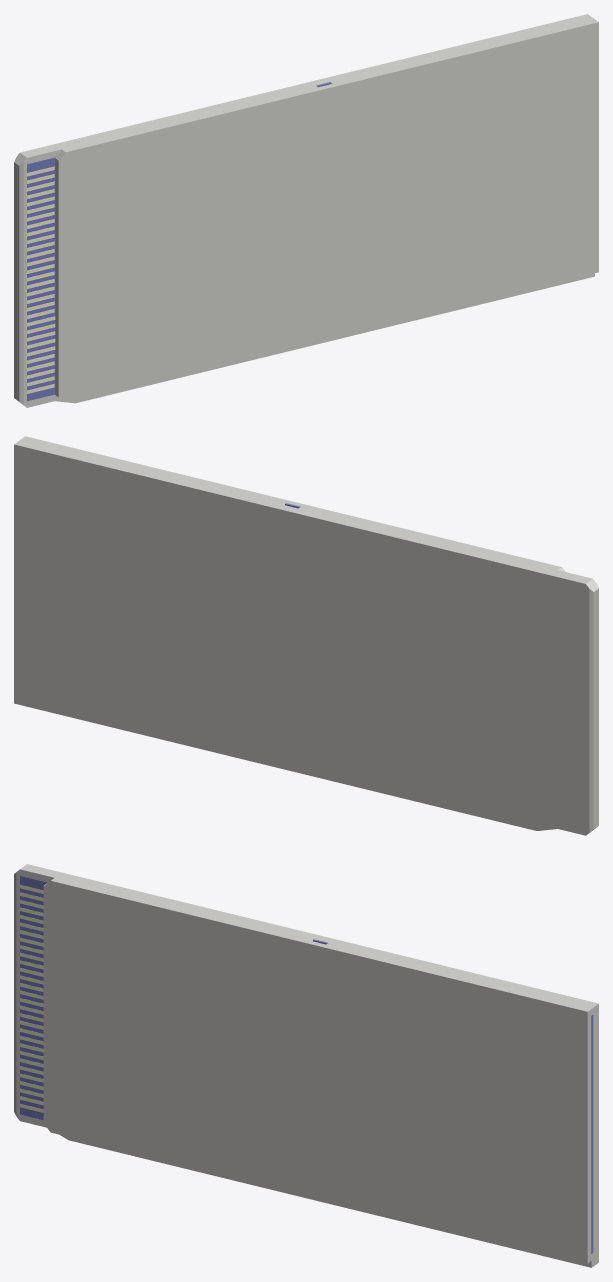
Rendered from Cartridge Base.gltf.
The picture shows the model from 3 angles, top to bottom: view 1: azimuth 30°, elevation 25°; view 2: azimuth 150°, elevation 25°; view 3: azimuth 330°, elevation 25°; orthographic projection.
Visible parts, largest first — view 1: Cartridge Top (×2), Cartridge Base (×8), Sensor For Microfluidic; view 2: Cartridge Base (×4); view 3: Cartridge Top (×2), Cartridge Base (×8), Sensor For Microfluidic.
Boxes of the visible parts, <box> form: Cartridge Top (×2): <box>55,29,598,397</box>; Cartridge Base (×8): <box>14,14,598,407</box>; Sensor For Microfluidic: <box>27,83,331,401</box>; Cartridge Base (×4): <box>14,436,598,835</box>; Cartridge Top (×2): <box>43,886,591,1256</box>; Cartridge Base (×8): <box>14,864,598,1267</box>; Sensor For Microfluidic: <box>20,876,591,1253</box>.
Bounding box in the file's own units: 0.083 × 0.0356 × 0.0028.
